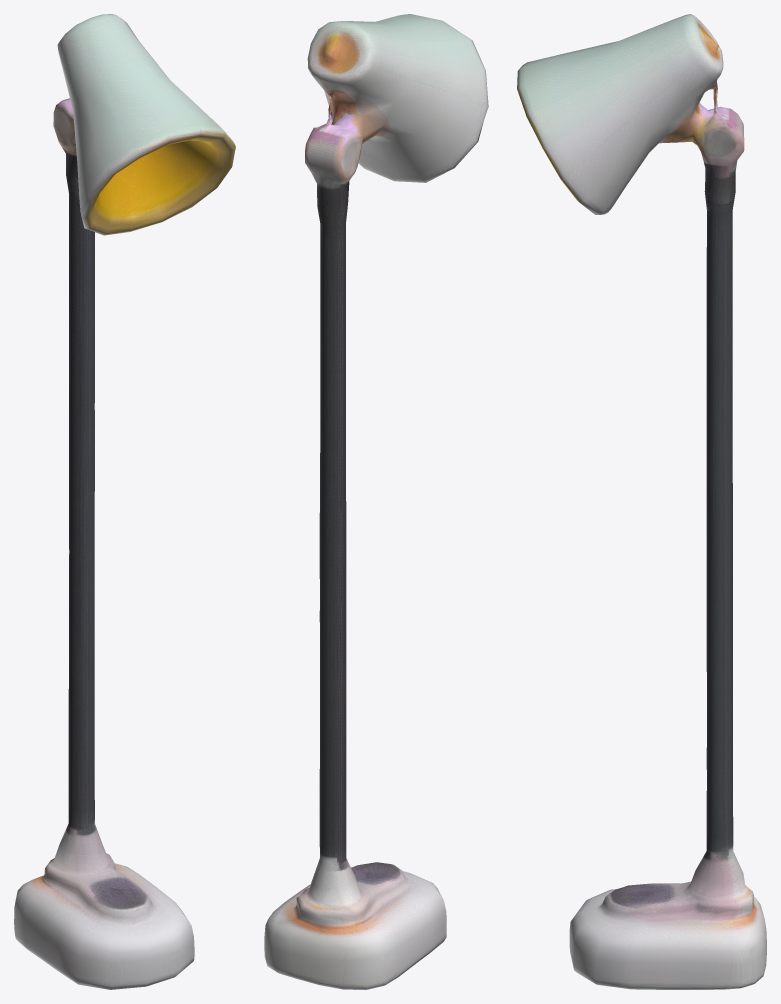
File: lamp_stand_failed.glb
3 views of the same model, side by side, from view 1: azimuth 30°, elevation 25°; view 2: azimuth 150°, elevation 25°; view 3: azimuth 270°, elevation 25° (orthographic).
Size of the model in its own units: 0.3305 by 2 by 0.4807.
Materials: 1 (1 with a texture image).
